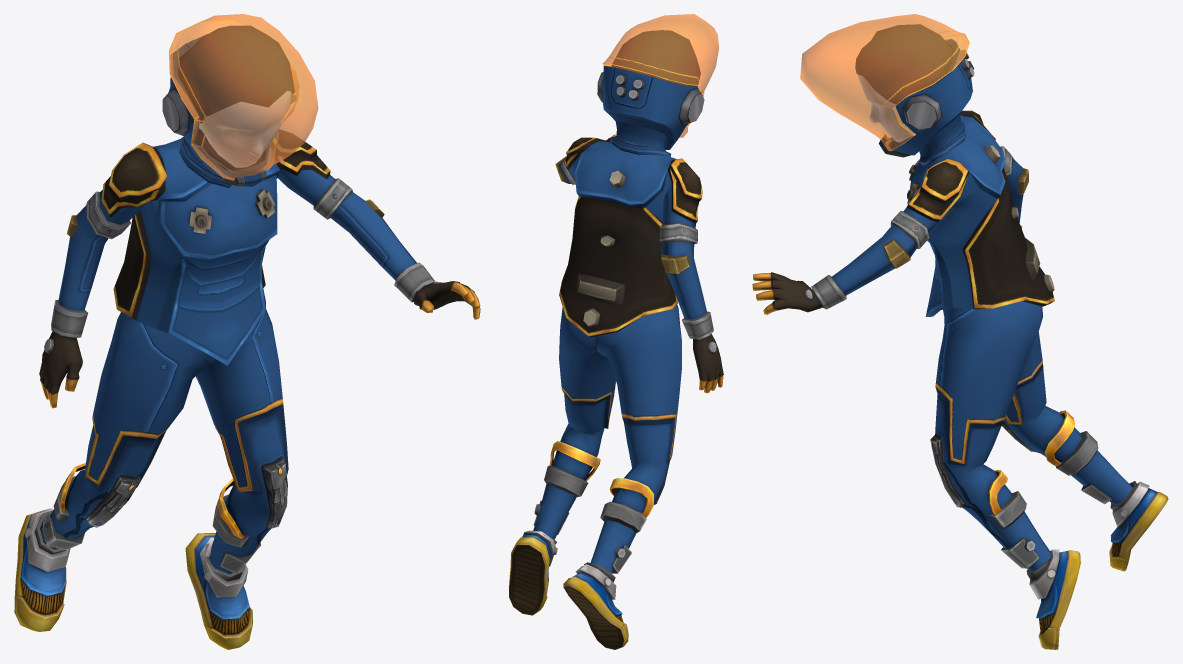
File: F_aldebaran_pose.gltf
The picture shows the model from 3 angles, left to right: view 1: azimuth 30°, elevation 25°; view 2: azimuth 150°, elevation 25°; view 3: azimuth 270°, elevation 25°; orthographic projection. The views are drawn at different scales.
Visible parts, largest first — view 1: F_Aldebaran_Upperbody, F_Aldebaran_Lowerbody, F_Aldebaran_Helmet_Glass, F_Aldebaran_Helmet, F_Aldebaran_Feet, M_head; view 2: F_Aldebaran_Upperbody, F_Aldebaran_Lowerbody, F_Aldebaran_Helmet, F_Aldebaran_Feet, F_Aldebaran_Helmet_Glass; view 3: F_Aldebaran_Lowerbody, F_Aldebaran_Upperbody, F_Aldebaran_Helmet_Glass, F_Aldebaran_Helmet, F_Aldebaran_Feet, M_head.
Part boxes in pixels (left/top/right/bottom): F_Aldebaran_Upperbody: left=39, top=130, right=480, bottom=408; F_Aldebaran_Lowerbody: left=41, top=309, right=288, bottom=573; F_Aldebaran_Helmet_Glass: left=169, top=14, right=318, bottom=180; F_Aldebaran_Helmet: left=162, top=25, right=298, bottom=187; F_Aldebaran_Feet: left=14, top=508, right=252, bottom=649; M_head: left=199, top=91, right=291, bottom=167; F_Aldebaran_Upperbody: left=555, top=134, right=723, bottom=393; F_Aldebaran_Lowerbody: left=533, top=304, right=681, bottom=573; F_Aldebaran_Helmet: left=597, top=30, right=704, bottom=156; F_Aldebaran_Feet: left=509, top=530, right=628, bottom=649; F_Aldebaran_Helmet_Glass: left=602, top=14, right=719, bottom=137; F_Aldebaran_Lowerbody: left=930, top=301, right=1132, bottom=571; F_Aldebaran_Upperbody: left=752, top=110, right=1054, bottom=316; F_Aldebaran_Helmet_Glass: left=800, top=14, right=969, bottom=151; F_Aldebaran_Helmet: left=855, top=24, right=974, bottom=166; F_Aldebaran_Feet: left=1026, top=481, right=1168, bottom=649; M_head: left=858, top=74, right=914, bottom=142.
Bounding box in the file's own units: 1.72 × 3.87 × 2.46.
3 materials, 2 textured.
